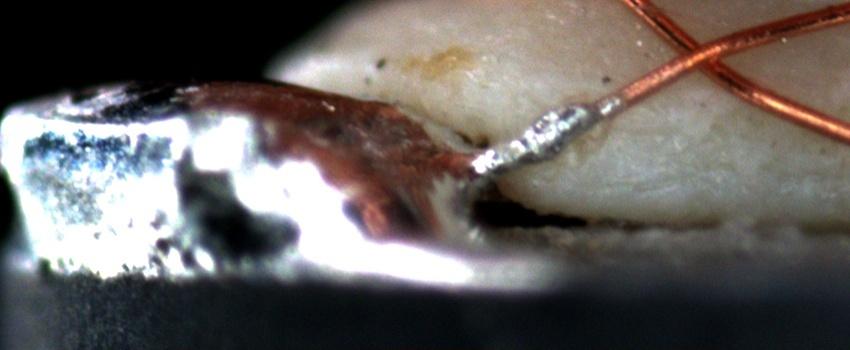CL: (658, 27, 745, 85)
TB: (483, 96, 594, 175)
TS: (478, 98, 613, 178)
TTCW: (471, 63, 677, 181)
